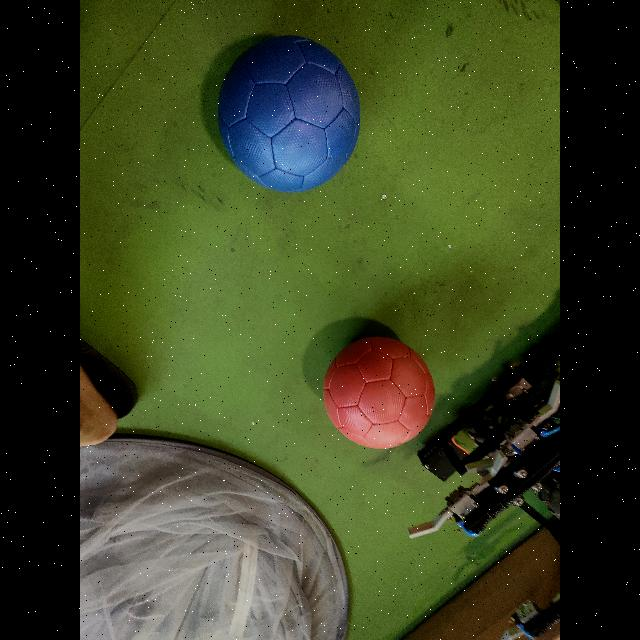B: (219, 36, 360, 193)
R: (323, 337, 435, 449)
